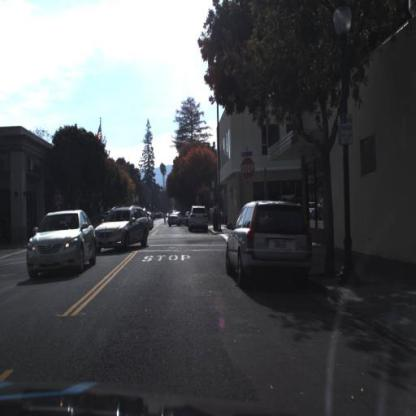car: (223, 193, 317, 296), (24, 209, 99, 282), (93, 203, 153, 254), (186, 204, 211, 234), (168, 209, 191, 231)
